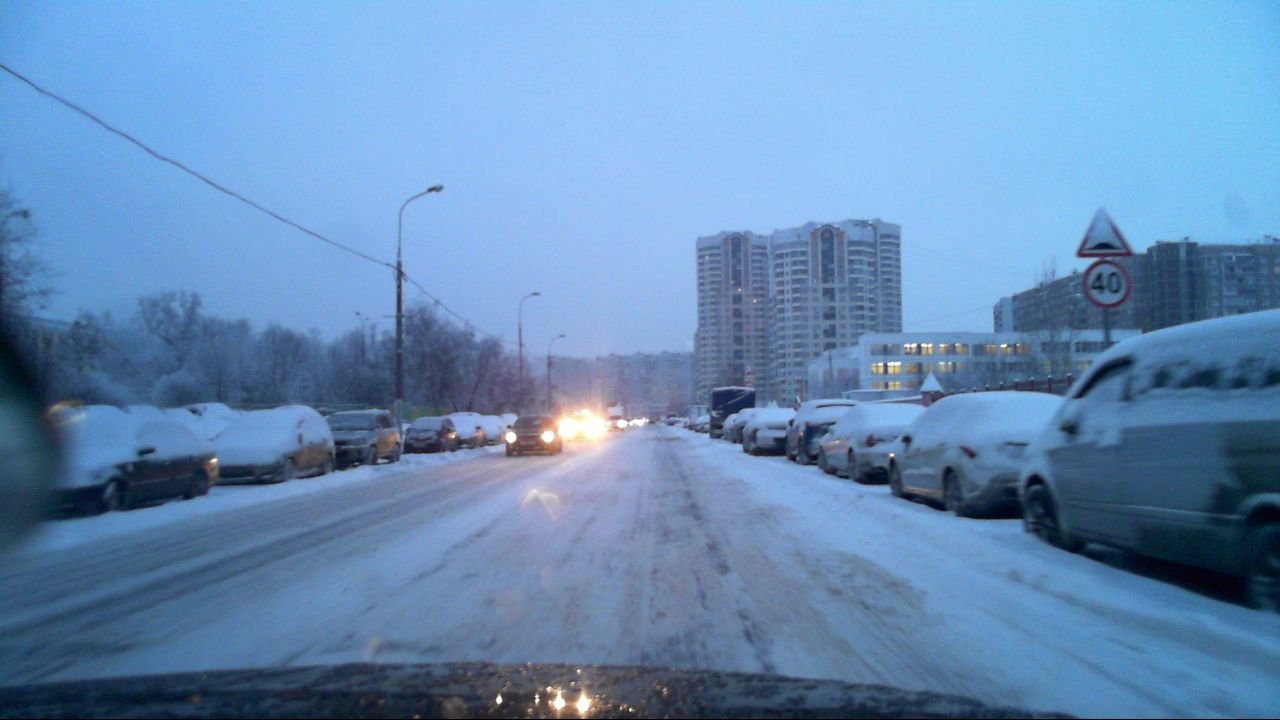speed_warning_40: (1083, 261, 1129, 305)
